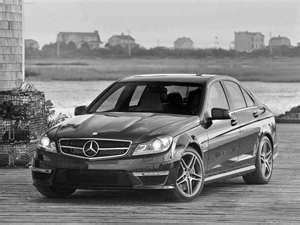car: (32, 74, 277, 203)
